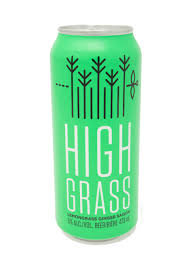can: (50, 24, 140, 246)
